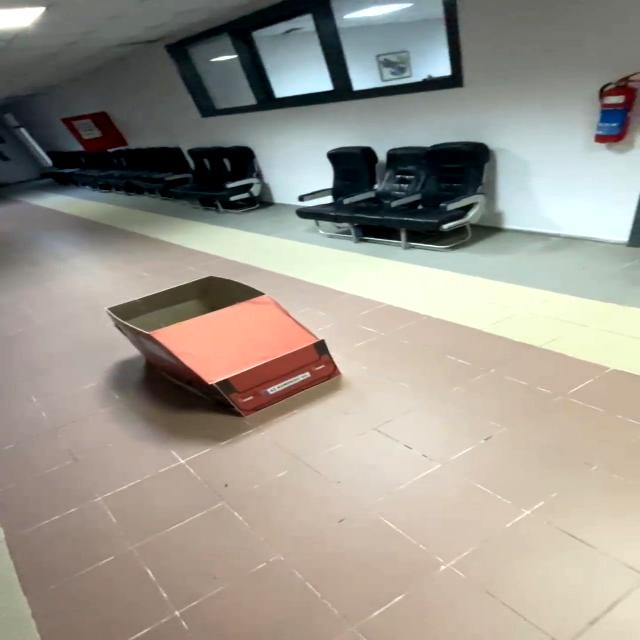red_car: (75, 266, 387, 443)
